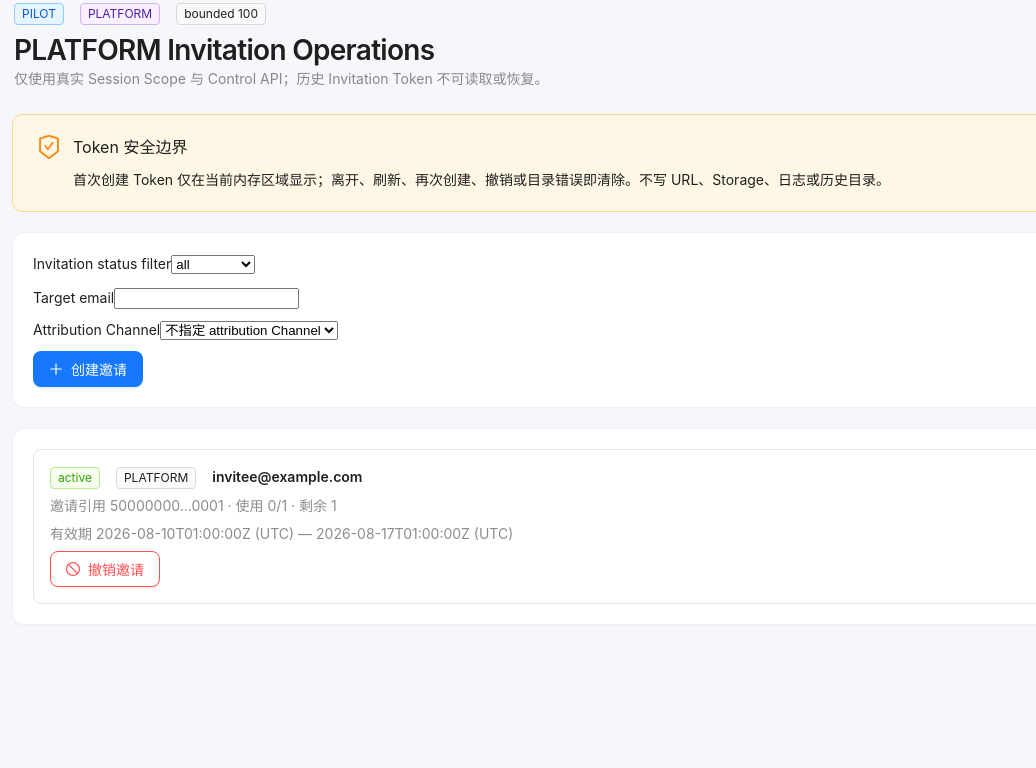
A-BIZ-06C.4 Organization Invitation Operations Pages › revokes only an active invitation after confirmation, reports replay and refreshes
The image size is (1036, 768).
Click the button "撤销邀请". click: (105, 569)
box: 50,551 -> 160,587
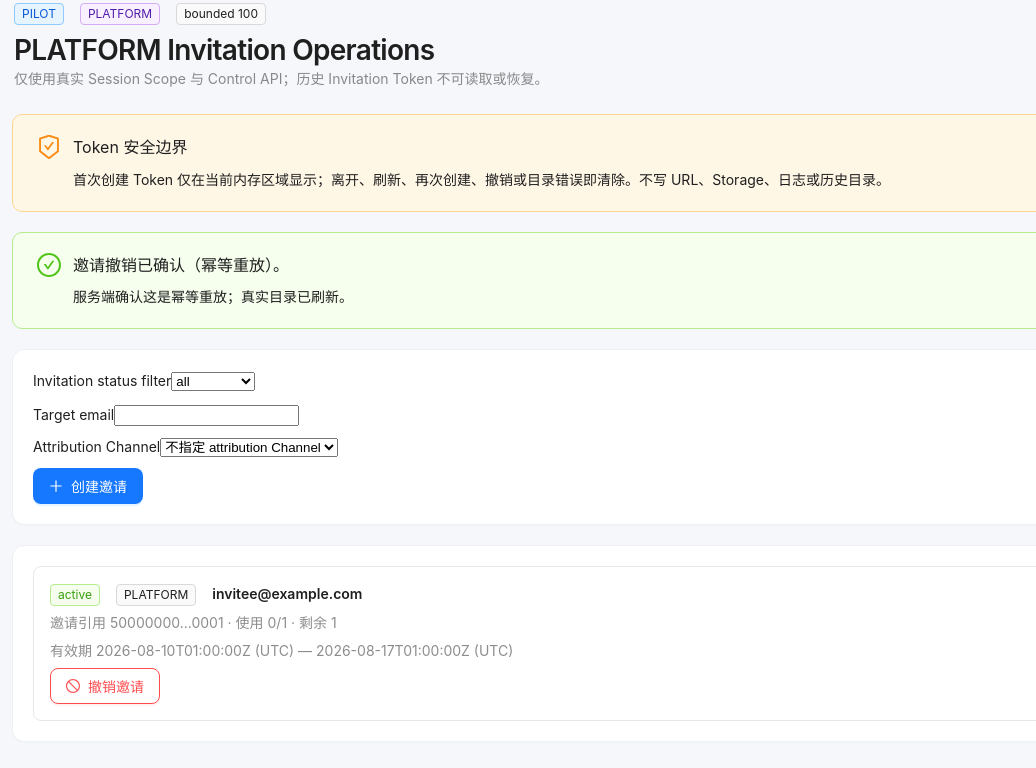
Expected: the message with test id "pilot-invitation-mutation-success" shows "幂等重放", 73,255 -> 289,275
